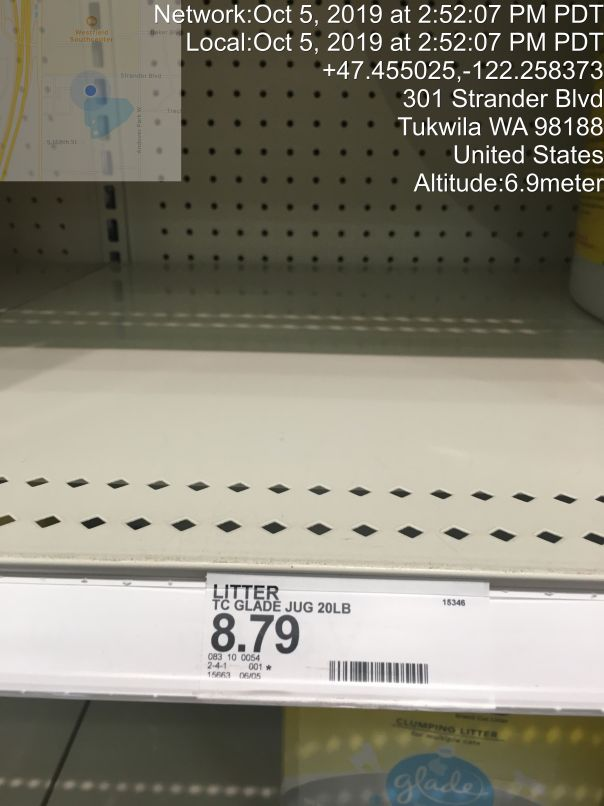Label: (199, 562, 485, 704)
Location: (388, 81, 604, 170)
Time: (145, 4, 604, 59)
Void: (19, 64, 512, 542)
